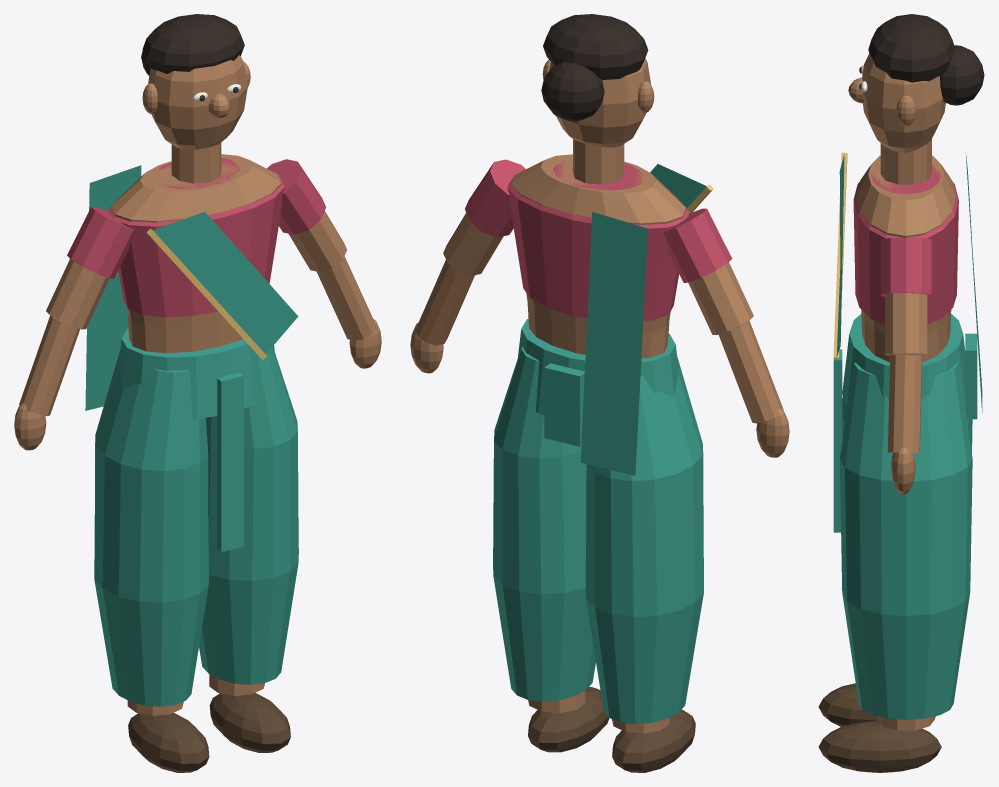
3 renders of one model, left to right at view 1: azimuth 30°, elevation 25°; view 2: azimuth 150°, elevation 25°; view 3: azimuth 270°, elevation 25°, orthographic. The views are drawn at different scales.
Parts seen in each view (by area): view 1: nauvari_kashtha_study_lower_-1, nauvari_kashtha_study_lower_1, body_torso, blouse, pallu_front_route_study, head_original, nauvari_kashtha_study_waist, pallu_back_drop_study, nauvari_kashtha_study_front_pleat, hair_cap, foot_-1, foot_1 (+11 smaller); view 2: nauvari_kashtha_study_lower_-1, nauvari_kashtha_study_lower_1, pallu_back_drop_study, blouse, body_torso, hair_cap, head_original, forearm_-1, nauvari_kashtha_study_waist, blouse_sleeve_-1, foot_-1, foot_1 (+11 smaller); view 3: nauvari_kashtha_study_lower_1, body_torso, blouse, head_original, foot_1, hair_cap, nauvari_kashtha_study_waist, forearm_1, blouse_sleeve_1, upper_arm_1, hair_bun, neck (+9 smaller).
Part boxes in pixels (x1,y1,x2,y2): nauvari_kashtha_study_lower_-1: (94,350,208,706); nauvari_kashtha_study_lower_1: (199,347,298,684); body_torso: (111,154,281,353); blouse: (108,158,284,317); pallu_front_route_study: (153,211,298,354); head_original: (148,55,247,150); nauvari_kashtha_study_waist: (118,328,274,419); pallu_back_drop_study: (85,165,141,410); nauvari_kashtha_study_front_pleat: (217,373,243,551); hair_cap: (142,14,244,73); foot_-1: (128,713,209,772); foot_1: (209,693,290,752); nauvari_kashtha_study_lower_-1: (585,357,703,724); nauvari_kashtha_study_lower_1: (493,346,595,701); pallu_back_drop_study: (580,212,647,475); blouse: (507,160,689,321); body_torso: (511,154,685,358); hair_cap: (543,14,648,80); head_original: (549,58,650,147); forearm_-1: (719,320,783,423); nauvari_kashtha_study_waist: (517,318,679,414); blouse_sleeve_-1: (662,208,732,282); foot_-1: (612,709,695,772); foot_1: (528,687,609,752); nauvari_kashtha_study_lower_1: (839,362,972,719); body_torso: (856,155,955,362); blouse: (853,165,958,324); head_original: (862,53,945,152); foot_1: (818,721,941,772); hair_cap: (868,14,954,82); nauvari_kashtha_study_waist: (842,314,967,407); forearm_1: (887,354,922,452); blouse_sleeve_1: (881,237,931,296); upper_arm_1: (885,293,927,355); hair_bun: (940,45,984,105); neck: (880,139,931,184).
Bounding box in the file's own units: 0.896 × 1.69 × 0.35.
